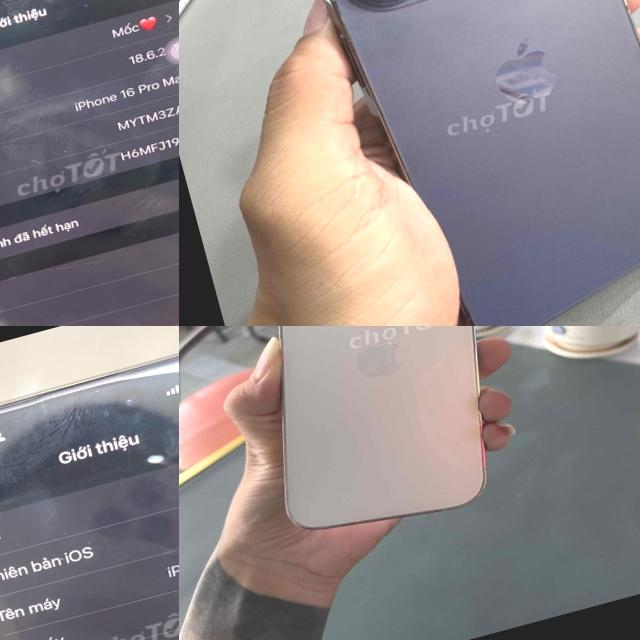gen_14: (265, 0, 640, 326), (196, 326, 524, 562)
gen_15: (0, 326, 179, 640)
gen_16: (0, 0, 179, 326)
